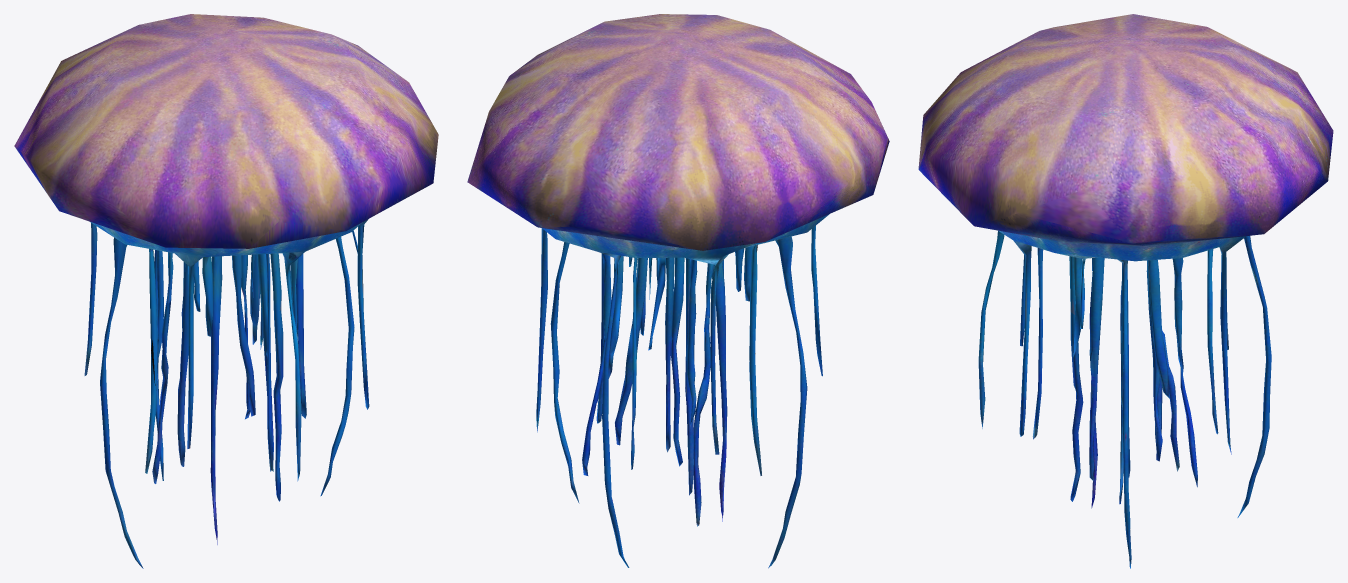
The model's file is jelly_fish.obj.
3 views of the same model, side by side, from view 1: azimuth 30°, elevation 25°; view 2: azimuth 150°, elevation 25°; view 3: azimuth 270°, elevation 25° (orthographic).
Parts seen in each view (by area): view 1: Jellyfish_Low_Poly; view 2: Jellyfish_Low_Poly; view 3: Jellyfish_Low_Poly.
Part boxes in pixels (x1,y1,x2,y2): Jellyfish_Low_Poly: (14,14,438,568); Jellyfish_Low_Poly: (467,14,889,568); Jellyfish_Low_Poly: (918,14,1333,568).
Bounding box in the file's own units: 0.552 × 0.7418 × 0.5527.
1 material, 1 textured.
